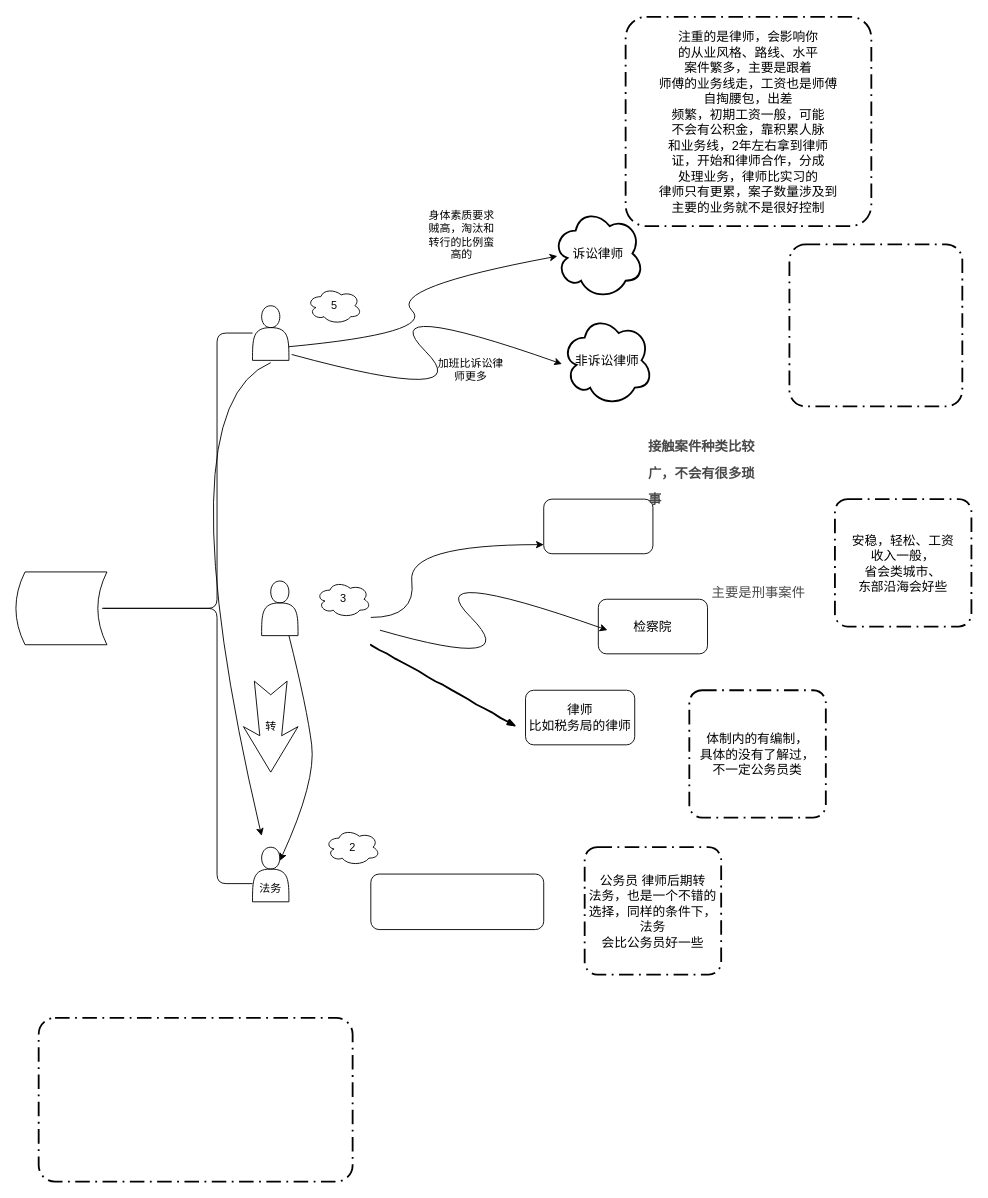
Some shapes in this 988 by 1198 pixel diagram are drawn without their labels. The centre of each missing label's shape, as x and y in pixels:
law: (x=61, y=608)
lawer: (x=270, y=332)
公务员: (x=279, y=608)
公证员，有编制，属于 事业单位，不属于公务员 壶体的不晓得哦 其他 法律新媒体 法律编辑 高校教师 培训机构辅导 法律翻译: (x=195, y=1099)
大型国企 央企，发展前景好的企业，大型互联网企业: (x=457, y=901)
法院: (x=598, y=526)
非诉讼律师，更注重团队 和律所， 五险一金比较全 加班量普遍比诉讼 律师多，当然前期收入会 相对高不少，据说后期 天花板比较明显: (x=875, y=325)
